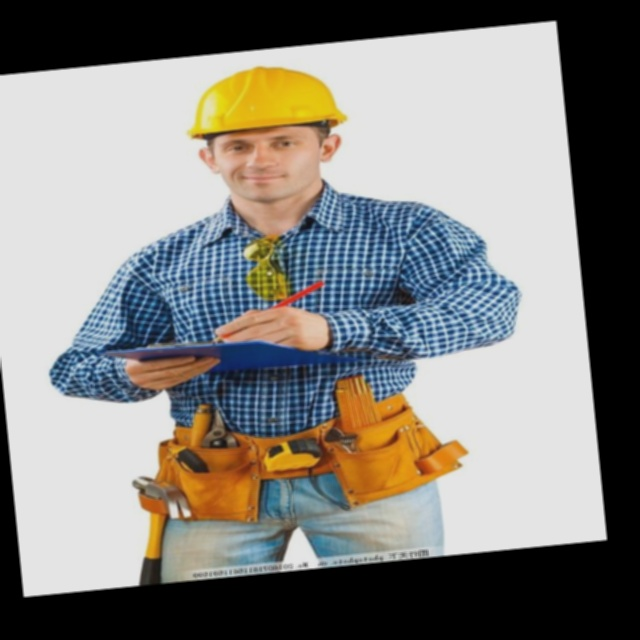Con_Casco: (185, 59, 352, 202)
